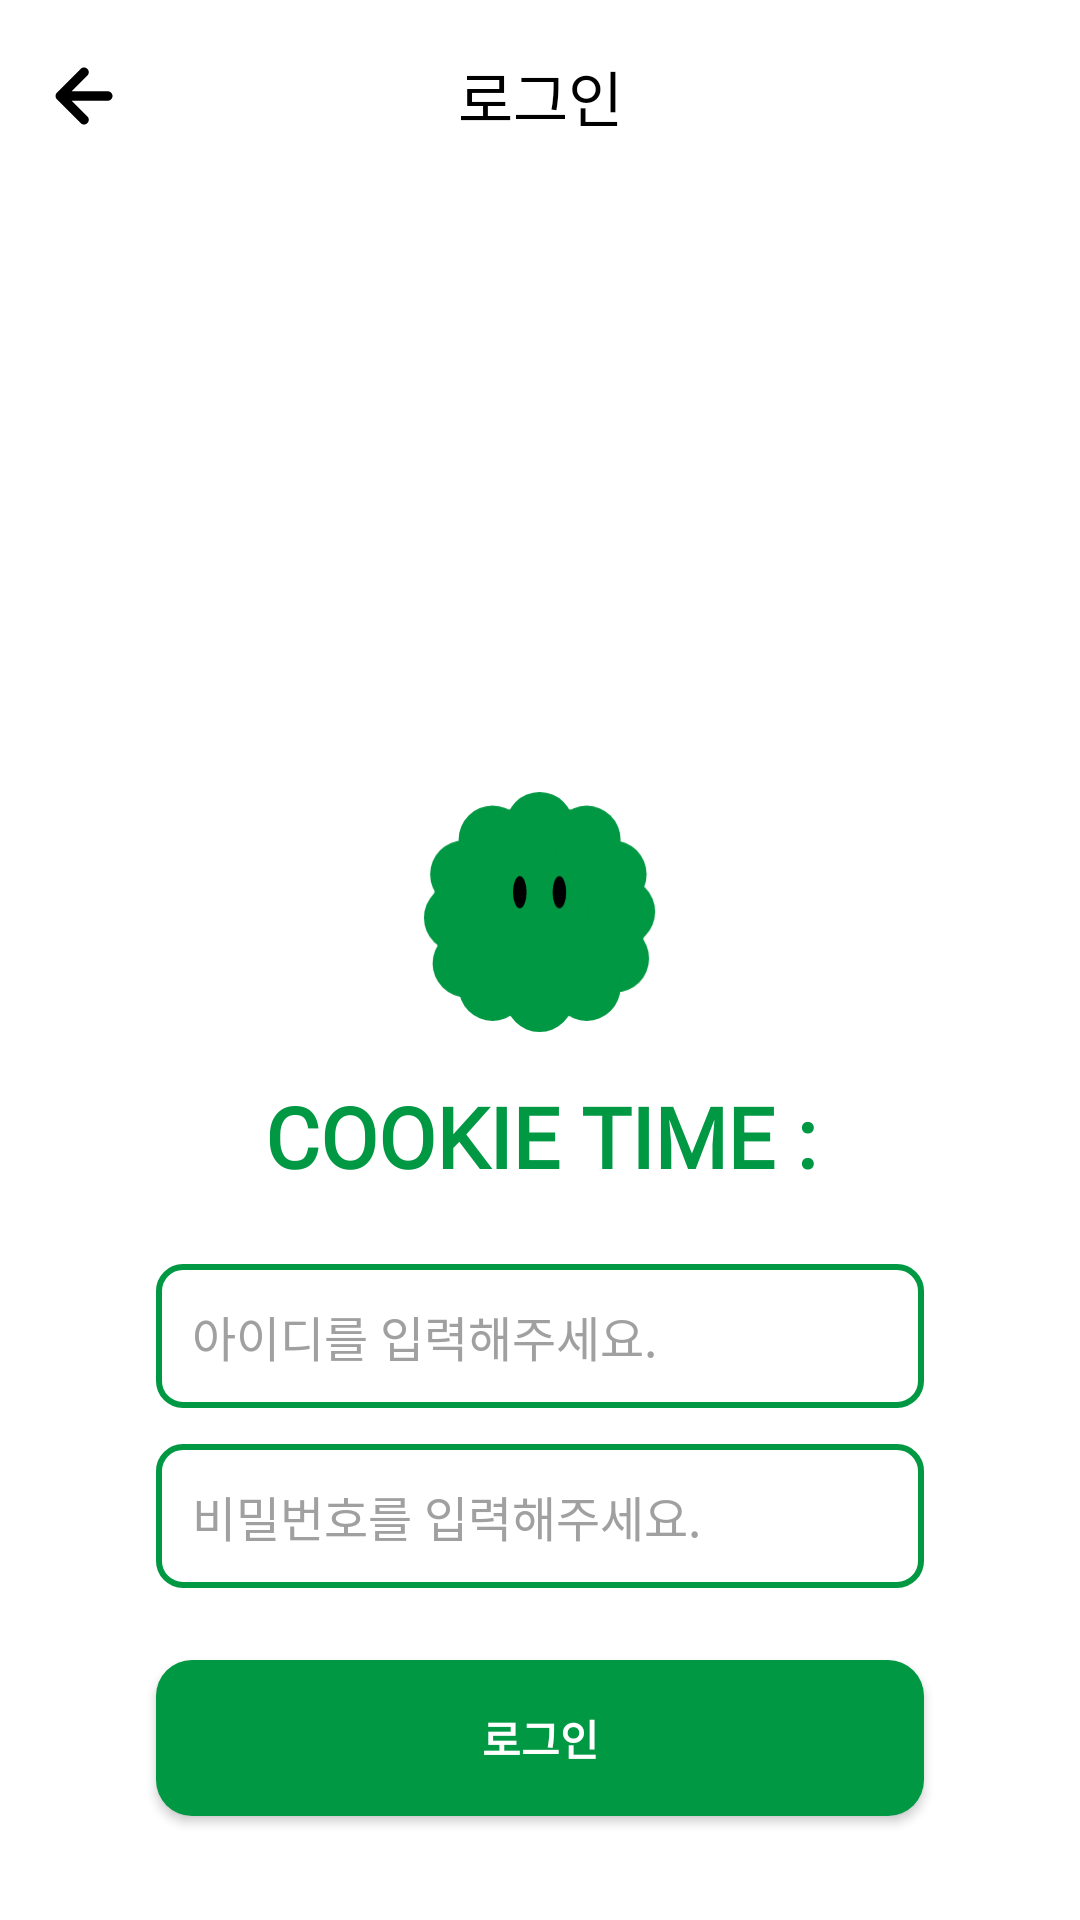

Screen size 1080w x 1920h. Icon name, then its box in pixels as (x1, y1, x2, y2):
뒤로가기: (55, 67, 113, 125)
